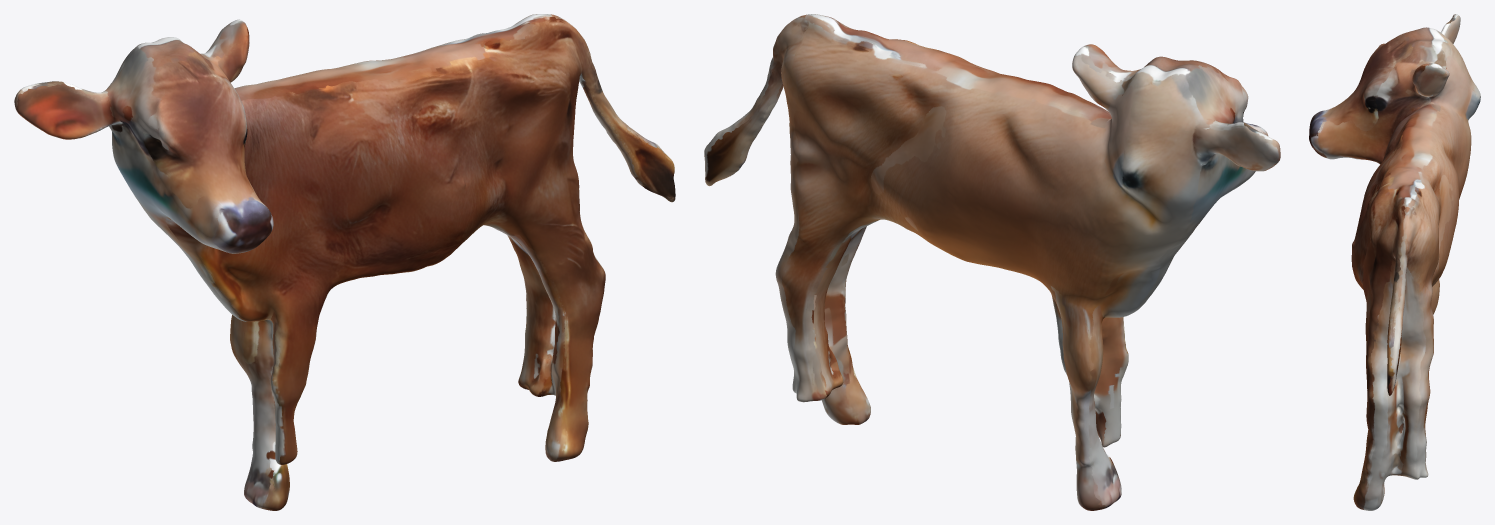
The model's file is bebe.glb.
The picture shows the model from 3 angles, left to right: view 1: azimuth 30°, elevation 25°; view 2: azimuth 150°, elevation 25°; view 3: azimuth 270°, elevation 25°; orthographic projection. The views are drawn at different scales.
Visible parts, largest first — view 1: mesh; view 2: mesh; view 3: mesh.
Boxes of the visible parts, x1=… form: mesh: x1=14, y1=14, x2=675, y2=510; mesh: x1=704, y1=14, x2=1280, y2=510; mesh: x1=1309, y1=14, x2=1480, y2=510.
Size of the model in its own units: 1.67 by 1.23 by 0.554.
1 material, 1 textured.
